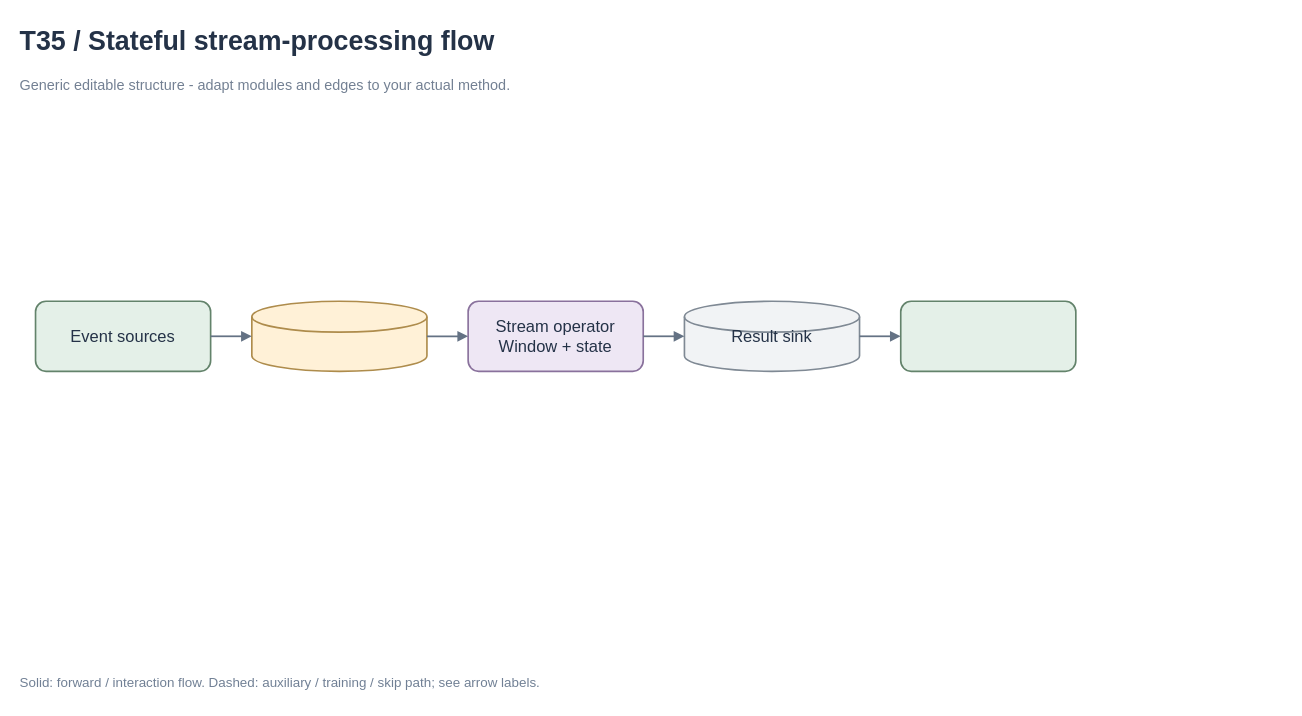
Some shapes in this 1302 by 716 pixel diagram are drawn without their labels. Each missing label, with the centre of its shape:
Message broker: the point at 338,336
Serving layer: the point at 987,336
